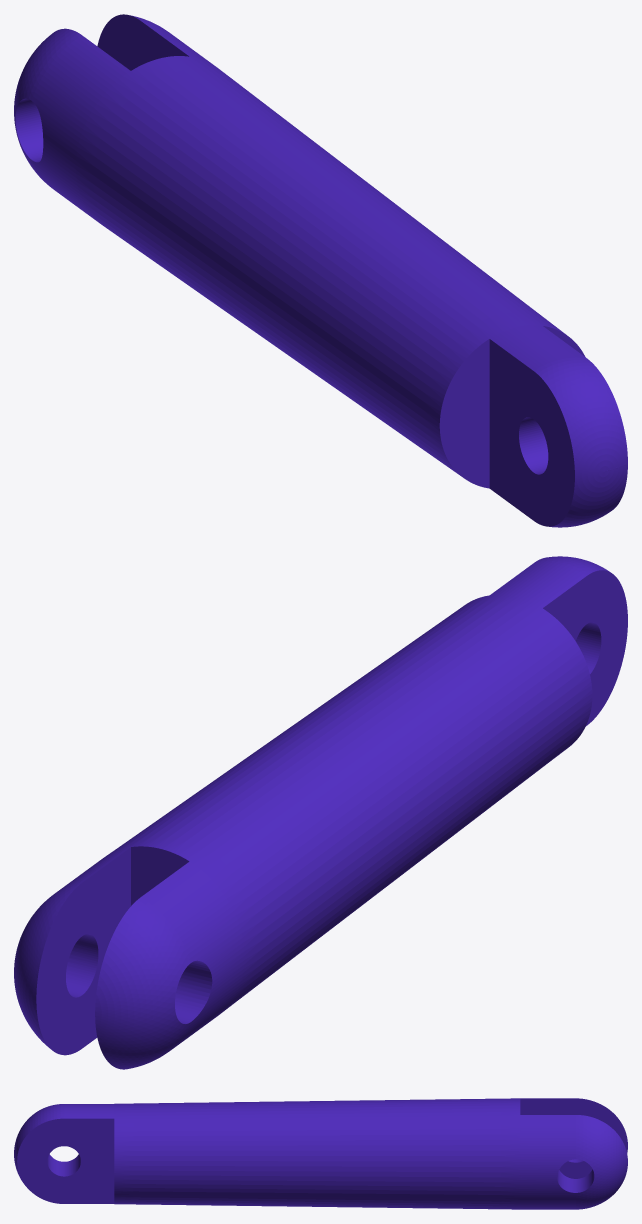
The picture shows the model from 3 angles, top to bottom: view 1: azimuth 30°, elevation 25°; view 2: azimuth 150°, elevation 25°; view 3: azimuth 270°, elevation 25°; orthographic projection. The views are drawn at different scales.
Visible parts, largest first — view 1: node; view 2: node; view 3: node.
Boxes of the visible parts, bbox=[...] form: node: bbox=[14, 14, 627, 527]; node: bbox=[14, 556, 627, 1069]; node: bbox=[14, 1098, 627, 1209].
Size of the model in its own units: 0.0823 by 0.0822 by 0.454.
